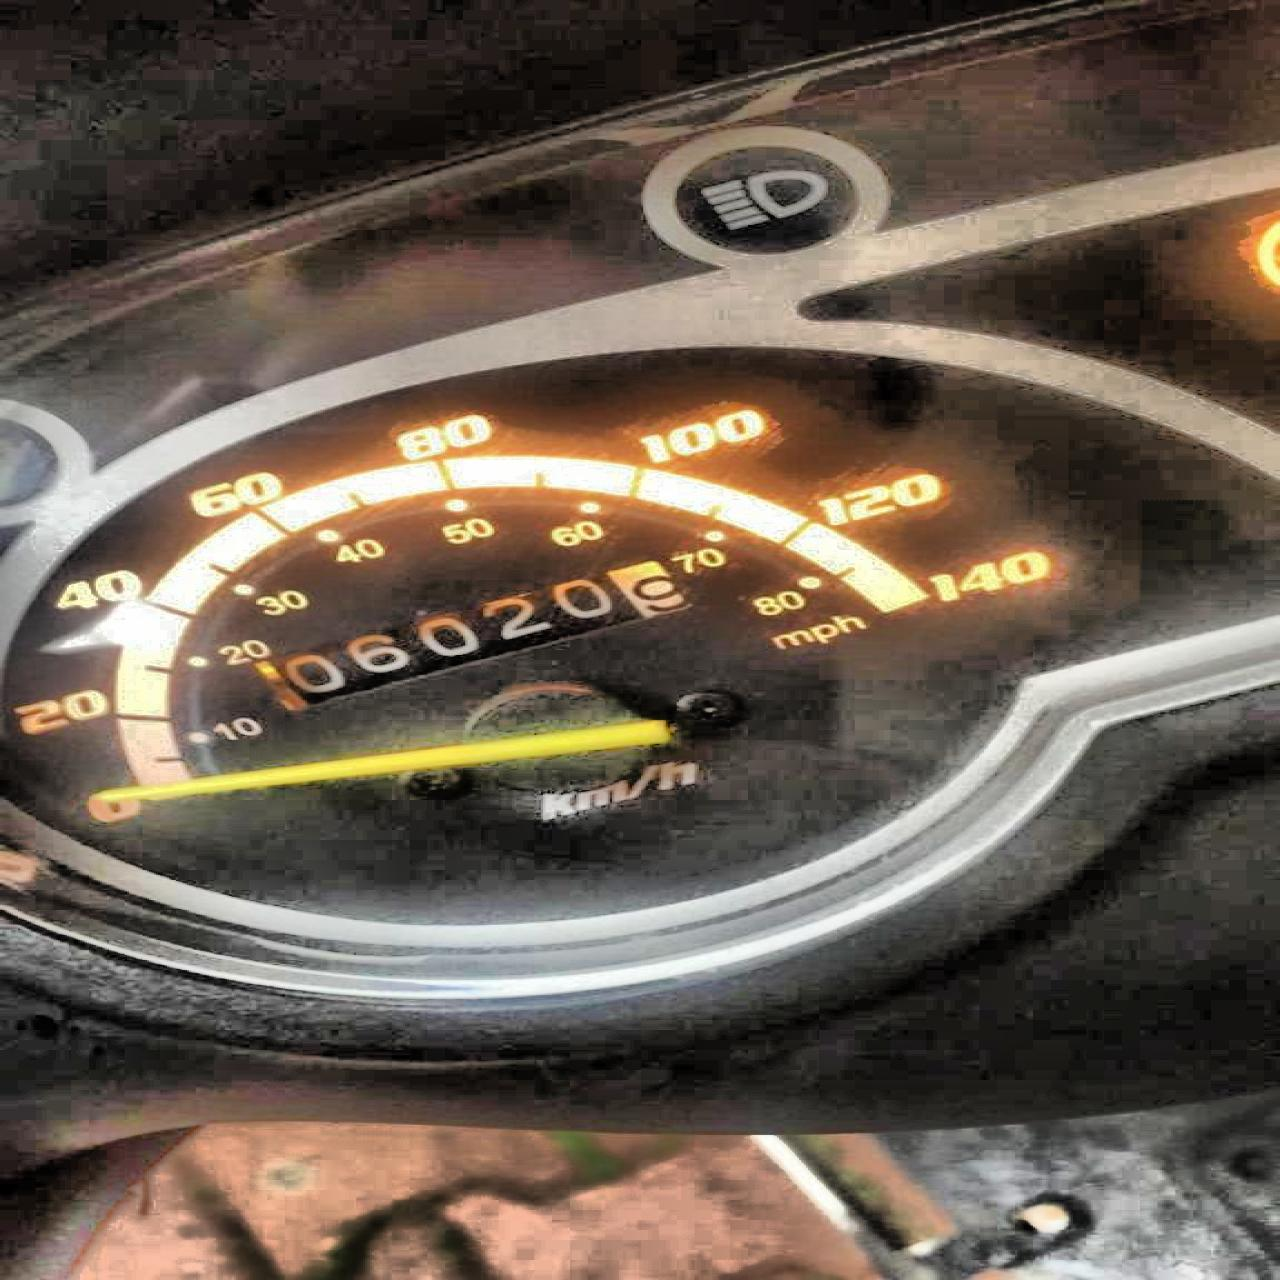0: (407, 614, 481, 658), (547, 578, 612, 621), (278, 654, 342, 694), (354, 536, 384, 559), (280, 588, 312, 610), (240, 635, 265, 656)
2: (472, 595, 550, 639)
3: (253, 595, 287, 617)
4: (327, 545, 359, 566)
6: (340, 634, 408, 674)
7: (670, 551, 695, 573)
9: (622, 573, 690, 618)
odometer: (247, 546, 696, 712)
